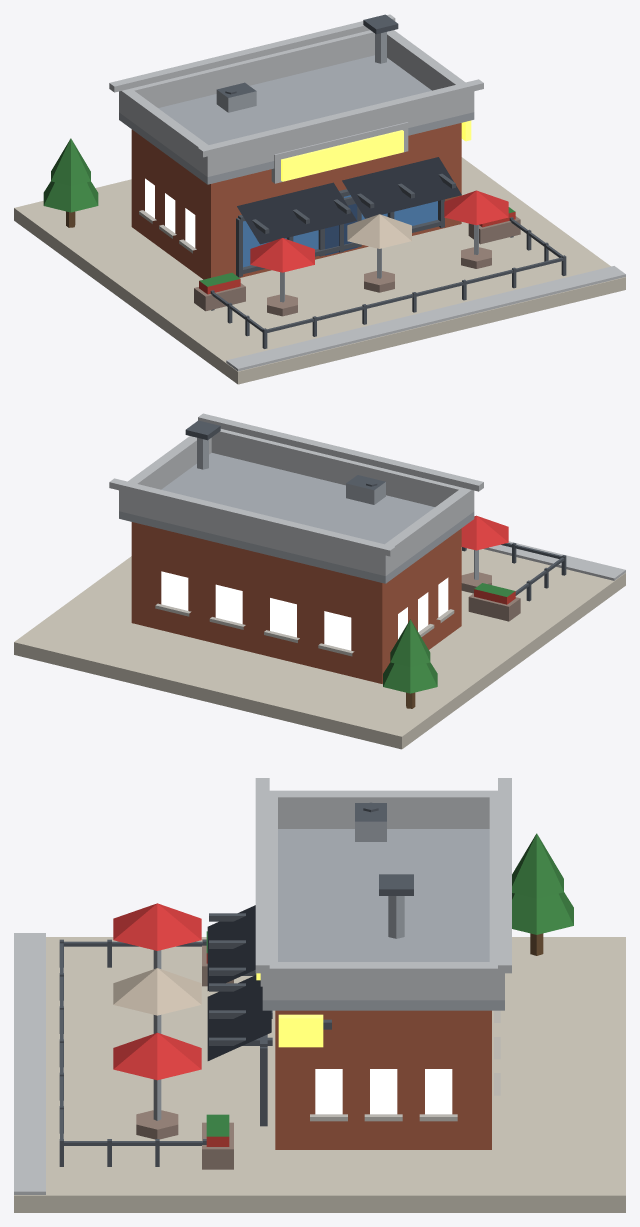
3 renders of one model, top to bottom at view 1: azimuth 30°, elevation 25°; view 2: azimuth 150°, elevation 25°; view 3: azimuth 270°, elevation 25°, orthographic. The views are drawn at different scales.
Visible parts, largest first — view 1: b12_v2; view 2: b12_v2; view 3: b12_v2.
Boxes of the visible parts, left/top/right/bottom form: b12_v2: left=14, top=14, right=625, bottom=384; b12_v2: left=14, top=413, right=625, bottom=749; b12_v2: left=14, top=778, right=625, bottom=1212.
Bounding box in the file's own units: 0.9675 × 0.452 × 0.96.
